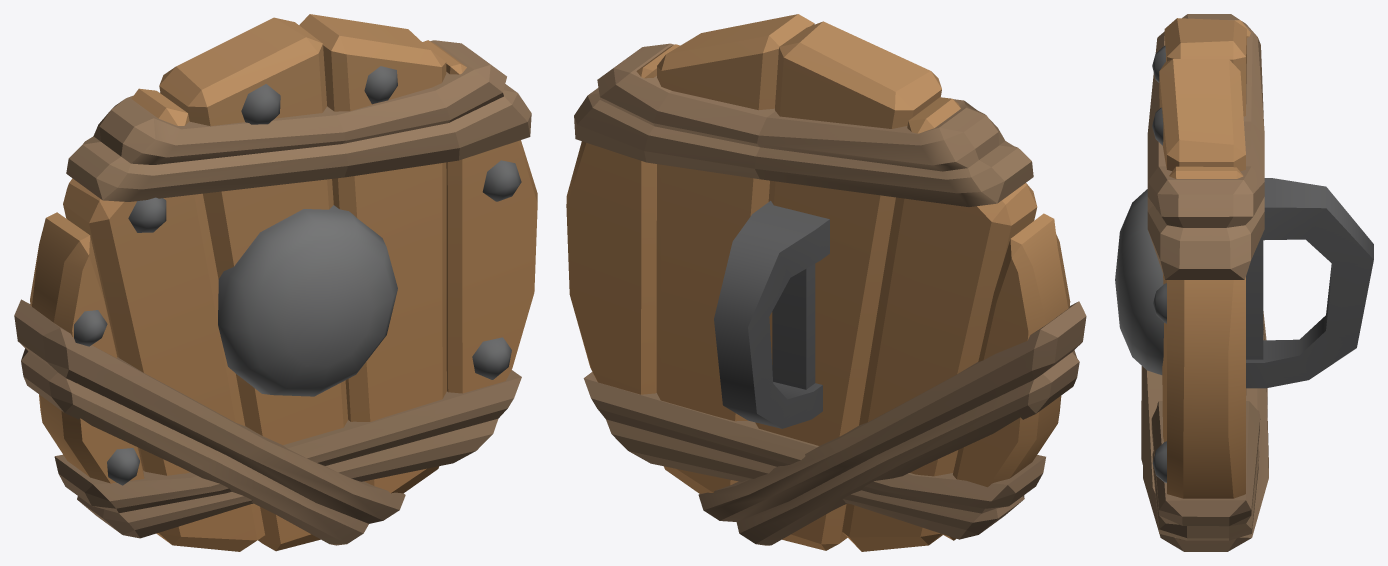
The model's file is Shield_3.fbx.
The picture shows the model from 3 angles, left to right: view 1: azimuth 30°, elevation 25°; view 2: azimuth 150°, elevation 25°; view 3: azimuth 270°, elevation 25°; orthographic projection. The views are drawn at different scales.
Parts seen in each view (by area): view 1: Shield_3; view 2: Shield_3; view 3: Shield_3.
Boxes of the visible parts, x1,y1,x2,y2 form: Shield_3: (14,14,537,551); Shield_3: (566,14,1086,551); Shield_3: (1115,14,1373,551).
Bounding box in the file's own units: 74.22 × 73.88 × 35.53.
